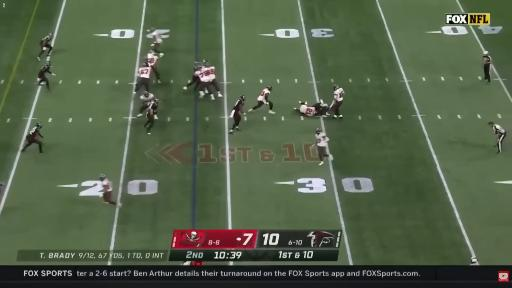Helmet: (36, 122, 43, 130), (100, 173, 107, 180), (46, 32, 54, 38), (315, 128, 323, 134), (148, 28, 154, 34), (332, 85, 338, 90), (155, 99, 161, 104), (141, 63, 147, 68), (197, 66, 202, 71), (145, 90, 149, 96), (149, 50, 155, 54), (241, 96, 246, 100), (205, 62, 209, 67), (46, 62, 50, 66), (195, 61, 199, 65), (314, 111, 319, 114), (329, 105, 331, 110), (203, 59, 206, 62)
Jersey: (231, 99, 244, 117), (299, 105, 315, 116), (38, 65, 51, 78), (258, 88, 270, 102), (316, 132, 328, 146), (138, 67, 151, 79), (147, 102, 157, 117), (200, 67, 210, 82), (147, 54, 158, 66), (493, 124, 505, 135), (140, 94, 154, 103), (28, 127, 39, 138), (152, 31, 162, 43), (102, 179, 112, 191), (334, 88, 343, 101), (314, 103, 328, 111), (208, 67, 215, 81), (149, 101, 158, 111), (42, 35, 53, 43)
Player: (199, 60, 222, 99), (248, 86, 275, 113), (99, 175, 121, 206), (22, 123, 43, 153), (316, 128, 333, 165), (230, 95, 245, 134), (488, 122, 506, 153), (294, 100, 328, 116), (144, 99, 159, 134), (183, 63, 201, 91), (38, 62, 55, 91), (146, 51, 161, 83), (135, 62, 151, 92), (330, 85, 344, 118), (137, 91, 154, 117), (38, 33, 54, 60), (150, 29, 163, 57), (294, 102, 315, 116), (314, 100, 329, 116)
